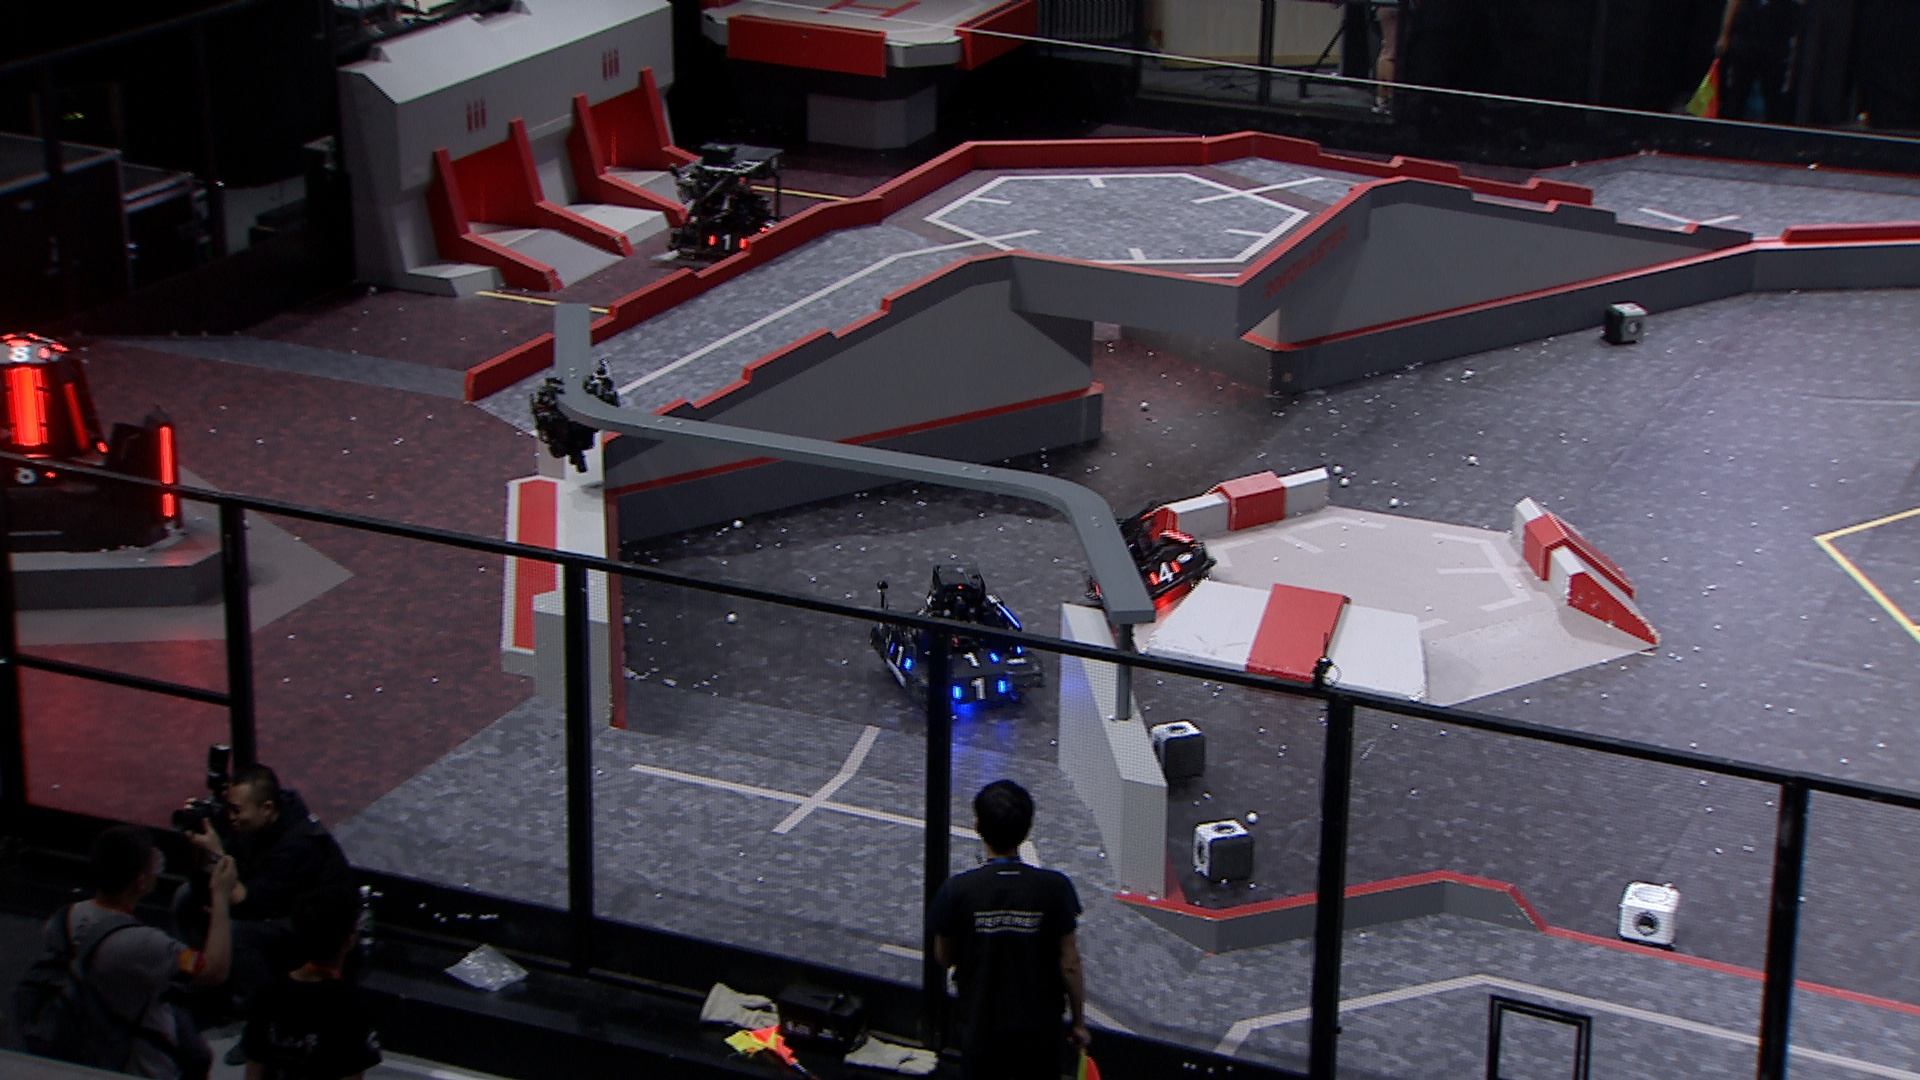armor: (5, 365, 51, 451), (63, 384, 94, 451), (158, 425, 177, 520), (949, 678, 1007, 705), (5, 463, 58, 489), (948, 647, 1007, 669), (884, 641, 916, 674), (705, 232, 752, 255), (1147, 560, 1182, 588)
car: (868, 560, 1048, 721), (650, 136, 793, 285), (1077, 495, 1218, 615)
watcher: (527, 356, 622, 473)
